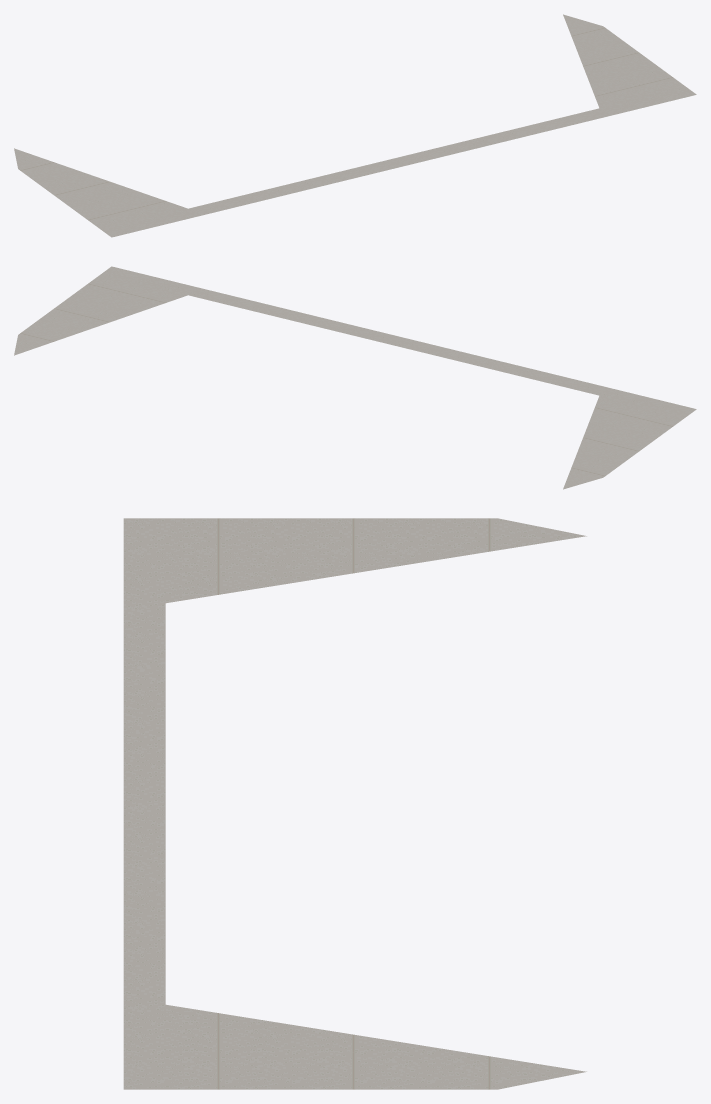
Rendered from kd_stage_135b75_1_9.glb.
3 views of the same model, one above another, from view 1: azimuth 30°, elevation 25°; view 2: azimuth 150°, elevation 25°; view 3: azimuth 270°, elevation 25° (orthographic). The views are drawn at different scales.
Visible parts, largest first — view 1: kd_stage_135b75_1_9; view 2: kd_stage_135b75_1_9; view 3: kd_stage_135b75_1_9.
Part boxes in pixels (box(x1,y1,x2,y2)): kd_stage_135b75_1_9: box(14, 14, 696, 237); kd_stage_135b75_1_9: box(14, 266, 696, 489); kd_stage_135b75_1_9: box(123, 518, 586, 1089).
Size of the model in its own units: 9.64 by 7.34e-05 by 3.31.
Materials: 1 (1 with a texture image).
